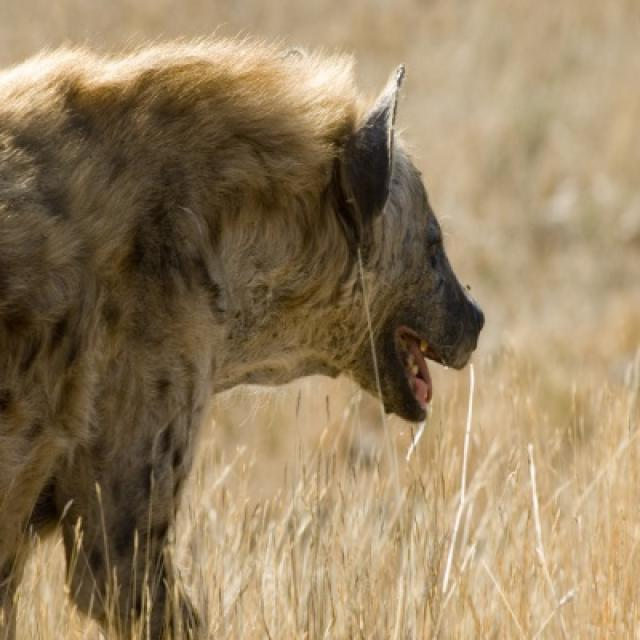hyena: (0, 32, 485, 638)
